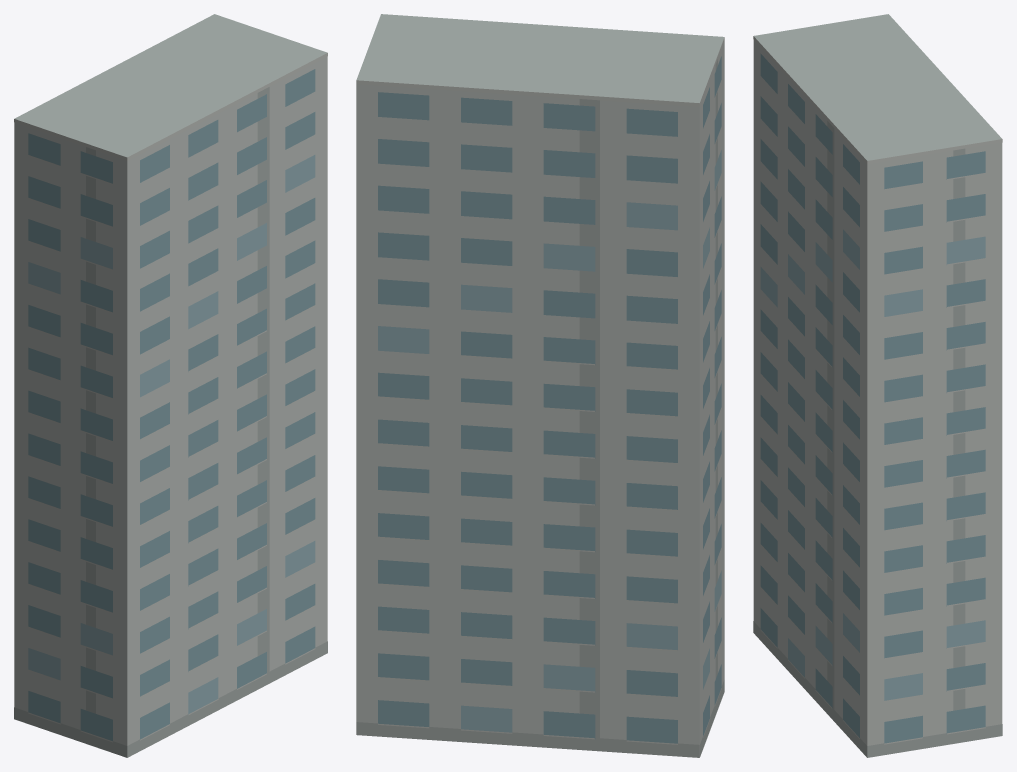
The model's file is residential-25471229-8d48-4f9e-8493-6780fc01347f.glb.
3 views of the same model, side by side, from view 1: azimuth 30°, elevation 25°; view 2: azimuth 150°, elevation 25°; view 3: azimuth 270°, elevation 25° (orthographic). The views are drawn at different scales.
Parts seen in each view (by area): view 1: residential-25471229-8d48-4f9e-8493-6780fc01347f.tmp; view 2: residential-25471229-8d48-4f9e-8493-6780fc01347f.tmp; view 3: residential-25471229-8d48-4f9e-8493-6780fc01347f.tmp.
Part boxes in pixels (box(x1,y1,x2,y2)): residential-25471229-8d48-4f9e-8493-6780fc01347f.tmp: box(14, 14, 327, 757); residential-25471229-8d48-4f9e-8493-6780fc01347f.tmp: box(356, 14, 724, 757); residential-25471229-8d48-4f9e-8493-6780fc01347f.tmp: box(753, 14, 1002, 757).
Size of the model in its own units: 22.19 by 42 by 15.89.
